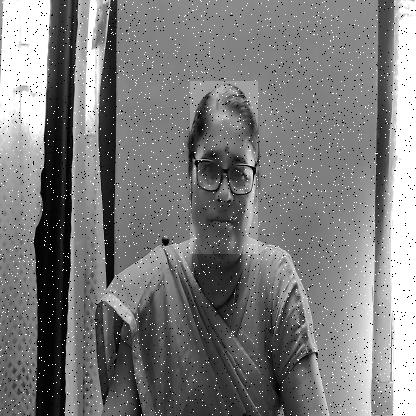Normal: (190, 81, 258, 254)
